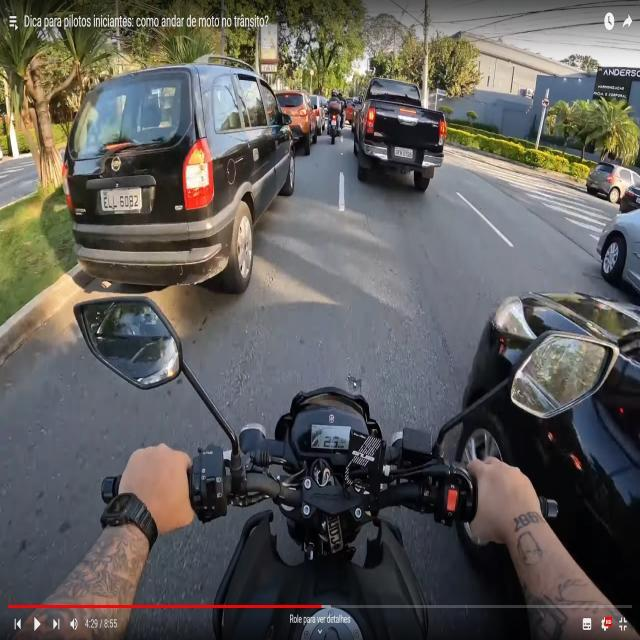Placa_mercosul_carro: (101, 187, 143, 211), (395, 147, 414, 159)
